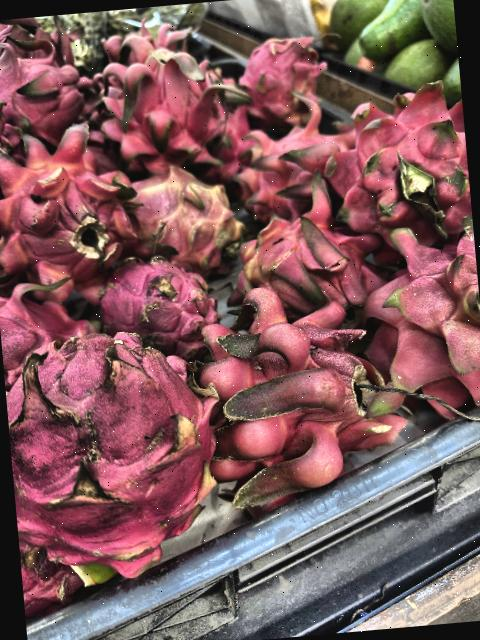buah-naga-belum-matang: (121, 155, 250, 278)
buah-naga-matang: (0, 318, 236, 584), (187, 282, 410, 498), (282, 82, 474, 252), (360, 221, 480, 438), (0, 123, 147, 299), (91, 24, 246, 180), (236, 106, 366, 228), (88, 246, 219, 364), (0, 22, 100, 143), (0, 272, 101, 373), (229, 28, 331, 126)
